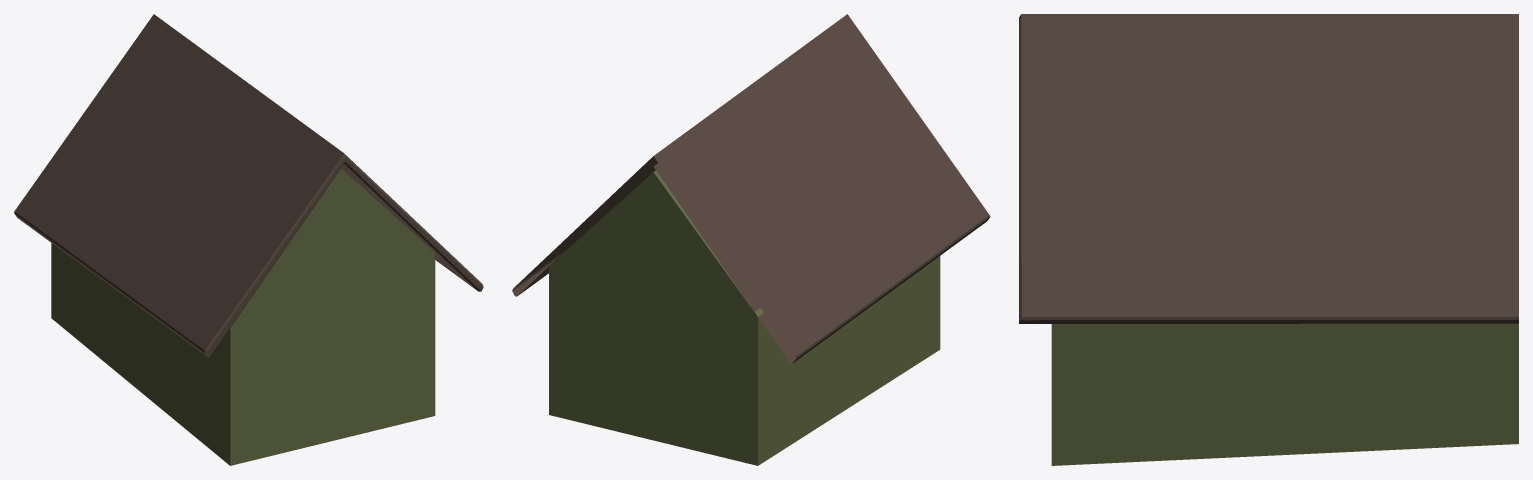
The model's file is Tejado_anexo.fbx.
3 views of the same model, side by side, from view 1: azimuth 30°, elevation 25°; view 2: azimuth 150°, elevation 25°; view 3: azimuth 270°, elevation 25° (orthographic). The views are drawn at different scales.
Parts seen in each view (by area): view 1: polySurface31; view 2: polySurface31; view 3: polySurface31.
Boxes of the visible parts, <box> form: polySurface31: <box>14,14,483,465</box>; polySurface31: <box>512,14,990,465</box>; polySurface31: <box>1019,14,1518,465</box>.
Bounding box in the file's own units: 297 × 302 × 354.
